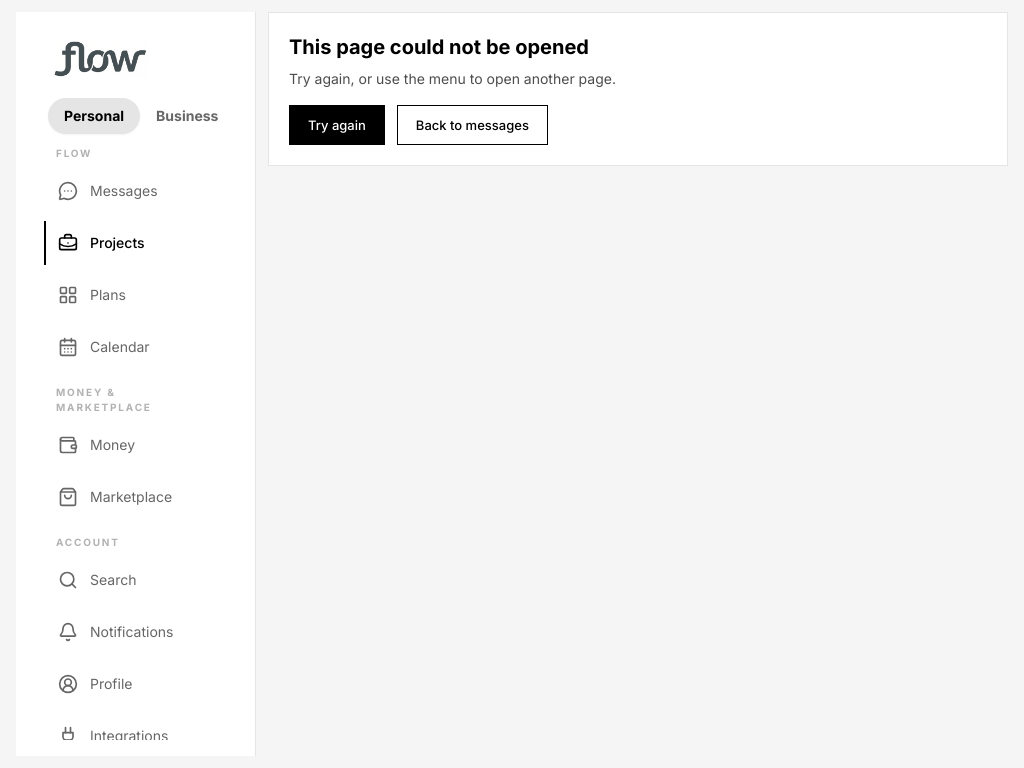
Test: keeps navigation available and supports retry when a page throws
Check: the heading "This page could not be opened" is shown, box [289,35,589,59]
Check: the navigation bar named "Main navigation" is shown, box [44,146,227,519]
Click the button "Try again" at (337, 125), box [289,105,385,145]
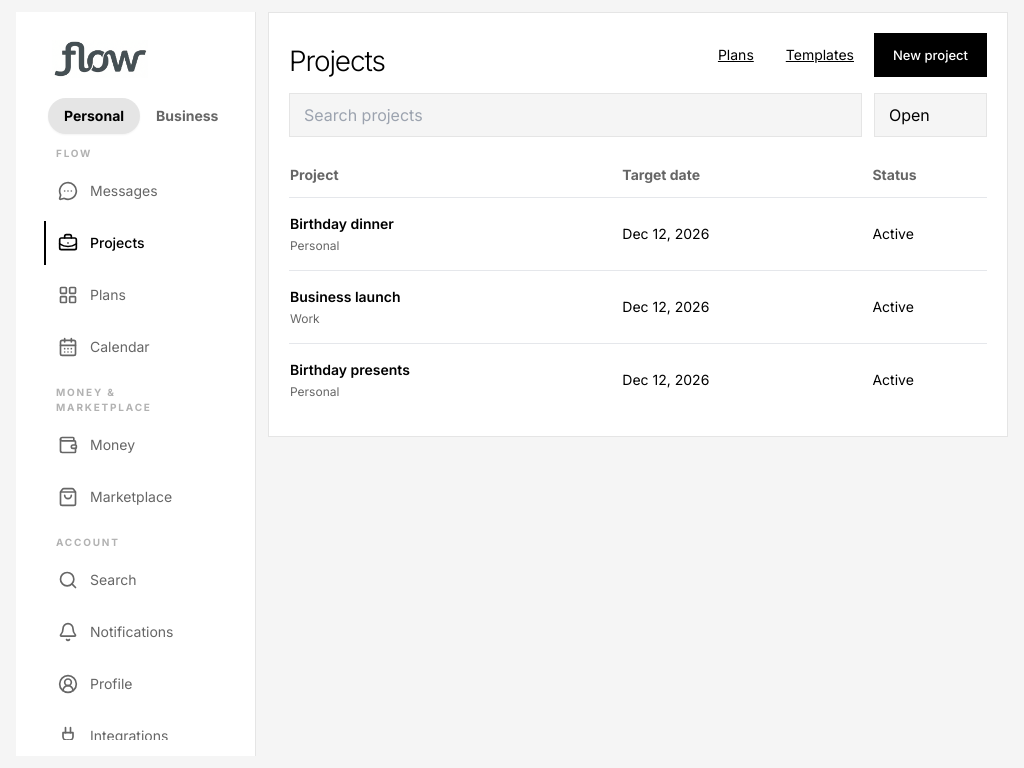
Check: the heading "Projects" is shown, box [289,45,385,77]
